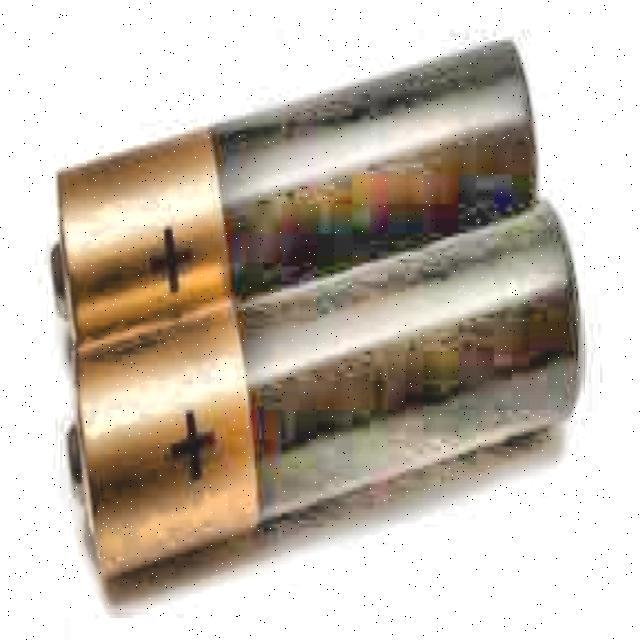B3: (41, 35, 634, 591)
